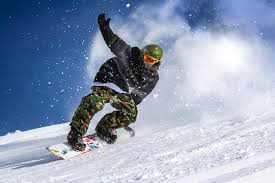snowboard: (45, 123, 136, 161)
